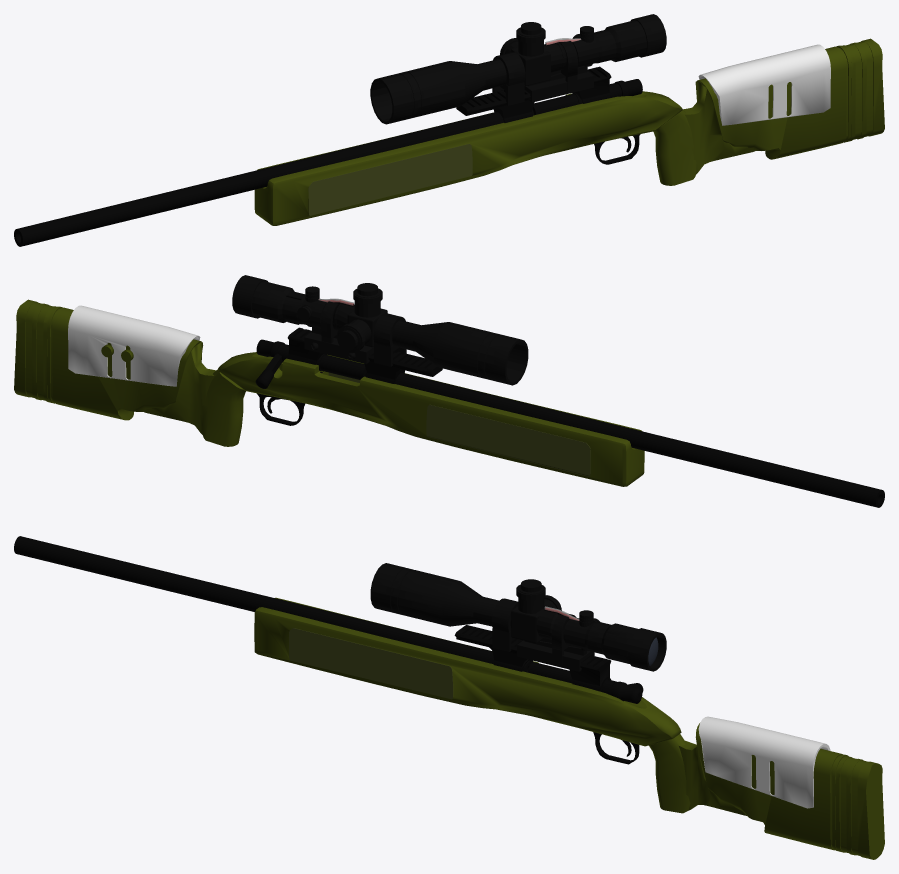
3 renders of one model, top to bottom at view 1: azimuth 30°, elevation 25°; view 2: azimuth 150°, elevation 25°; view 3: azimuth 330°, elevation 25°, orthographic.
Visible parts, largest first — view 1: m40a3, m40a3_x16scope, m40a3_cheekwell, m40a3_TA31RCO_Acog, m40a3_bolt; view 2: m40a3, m40a3_x16scope, m40a3_cheekwell, m40a3_TA31RCO_Acog, m40a3_bolt; view 3: m40a3, m40a3_x16scope, m40a3_cheekwell, m40a3_TA31RCO_Acog, m40a3_bolt.
Part boxes in pixels (left/top/right/bottom): m40a3: left=14, top=38, right=884, bottom=246; m40a3_x16scope: left=370, top=14, right=666, bottom=124; m40a3_cheekwell: left=698, top=44, right=830, bottom=125; m40a3_TA31RCO_Acog: left=524, top=26, right=610, bottom=102; m40a3_bolt: left=532, top=79, right=642, bottom=114; m40a3: left=14, top=299, right=884, bottom=507; m40a3_x16scope: left=232, top=275, right=528, bottom=385; m40a3_cheekwell: left=68, top=305, right=200, bottom=386; m40a3_TA31RCO_Acog: left=286, top=286, right=373, bottom=363; m40a3_bolt: left=255, top=339, right=366, bottom=388; m40a3: left=14, top=536, right=884, bottom=859; m40a3_x16scope: left=370, top=563, right=666, bottom=671; m40a3_cheekwell: left=698, top=716, right=830, bottom=808; m40a3_TA31RCO_Acog: left=517, top=606, right=611, bottom=671; m40a3_bolt: left=528, top=662, right=643, bottom=703.
Bounding box in the file's own units: 44.2 × 9.37 × 3.11.
